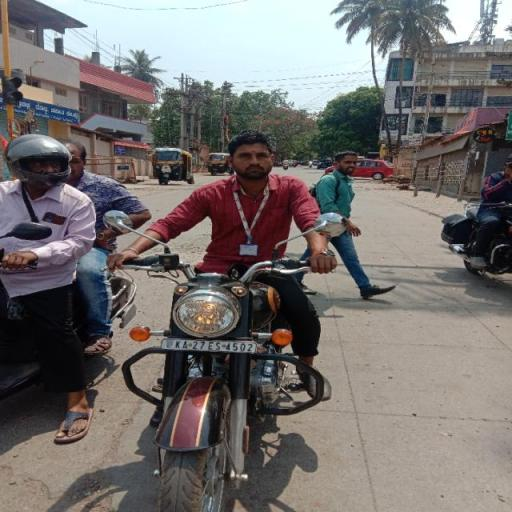bike: (99, 126, 354, 484)
numberplate: (162, 337, 265, 353)
withouthelmet: (232, 132, 274, 179)
